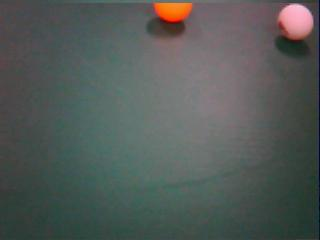oball: (155, 3, 192, 23)
